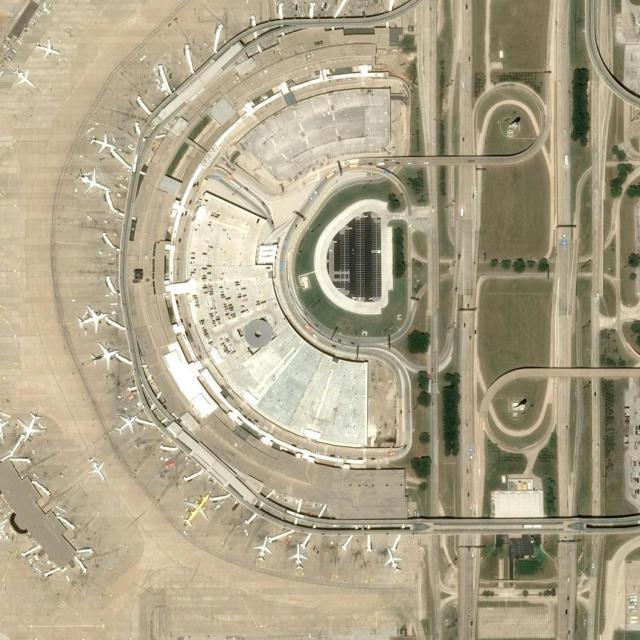Aircraft: (182, 493, 212, 529), (75, 305, 111, 333), (16, 410, 43, 440), (91, 342, 119, 370), (80, 170, 110, 196), (114, 411, 142, 435), (36, 37, 63, 59), (12, 69, 40, 89), (91, 132, 116, 154), (382, 549, 404, 573), (254, 536, 273, 563), (89, 455, 107, 483), (290, 544, 310, 569)
